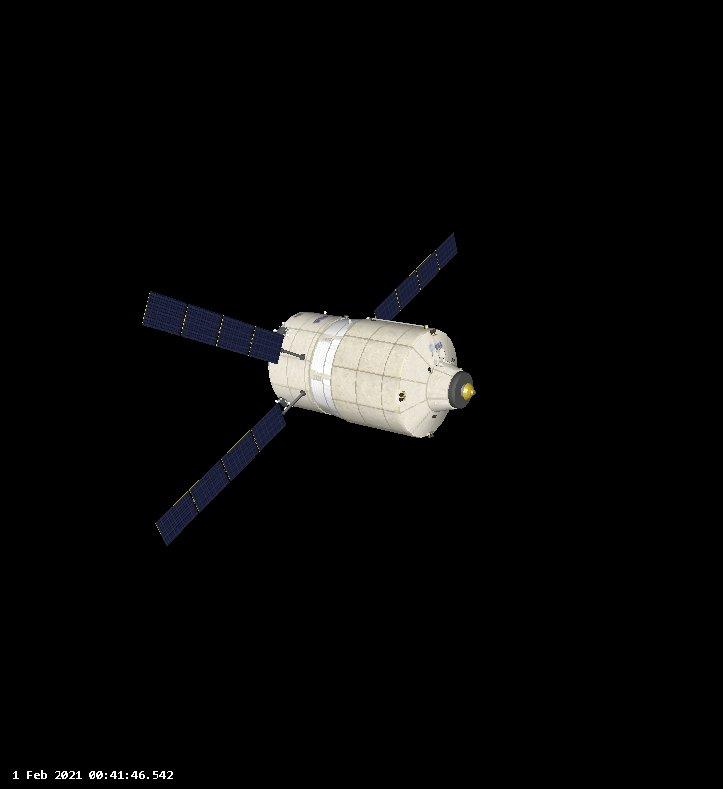body: (267, 310, 479, 440)
solar: (153, 402, 288, 548), (139, 289, 285, 365), (373, 230, 460, 323)
thruster: (396, 390, 407, 398), (397, 397, 407, 403), (428, 328, 435, 336), (432, 327, 438, 336), (430, 431, 436, 440), (426, 433, 432, 442)
